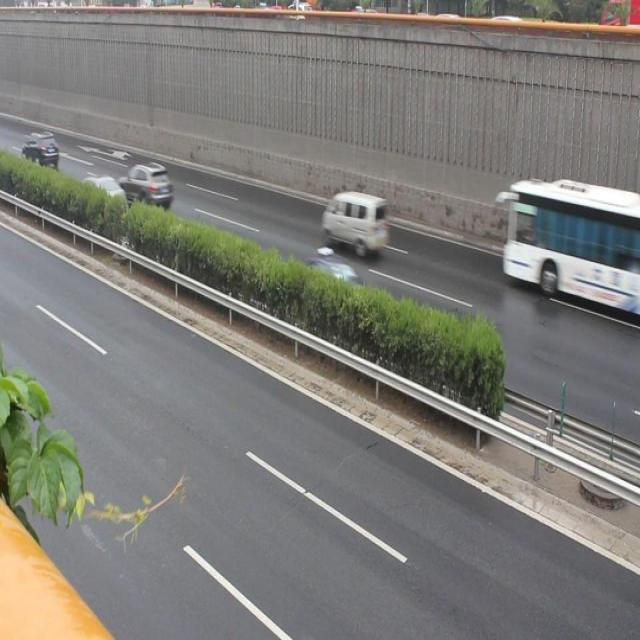car: (298, 245, 358, 308), (119, 158, 176, 210), (77, 169, 127, 210), (23, 130, 62, 167)
truck: (320, 187, 394, 262)
van: (496, 166, 640, 331)
